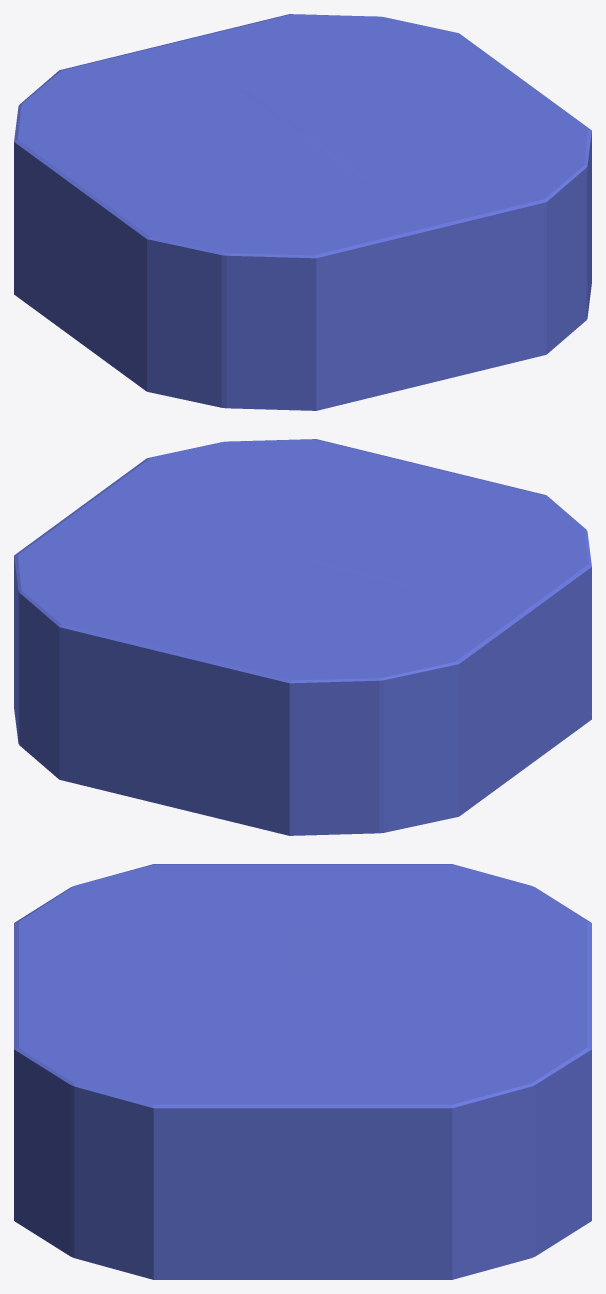
File: PlatformsJump.fbx
The picture shows the model from 3 angles, top to bottom: view 1: azimuth 30°, elevation 25°; view 2: azimuth 150°, elevation 25°; view 3: azimuth 270°, elevation 25°; orthographic projection. The views are drawn at different scales.
Visible parts, largest first — view 1: BouncePad.002; view 2: BouncePad.002; view 3: BouncePad.002.
Part boxes in pixels (x1,y1,x2,y2): BouncePad.002: (14,14,591,410); BouncePad.002: (14,439,591,835); BouncePad.002: (14,864,591,1279).
Bounding box in the file's own units: 150 × 51.17 × 150.
